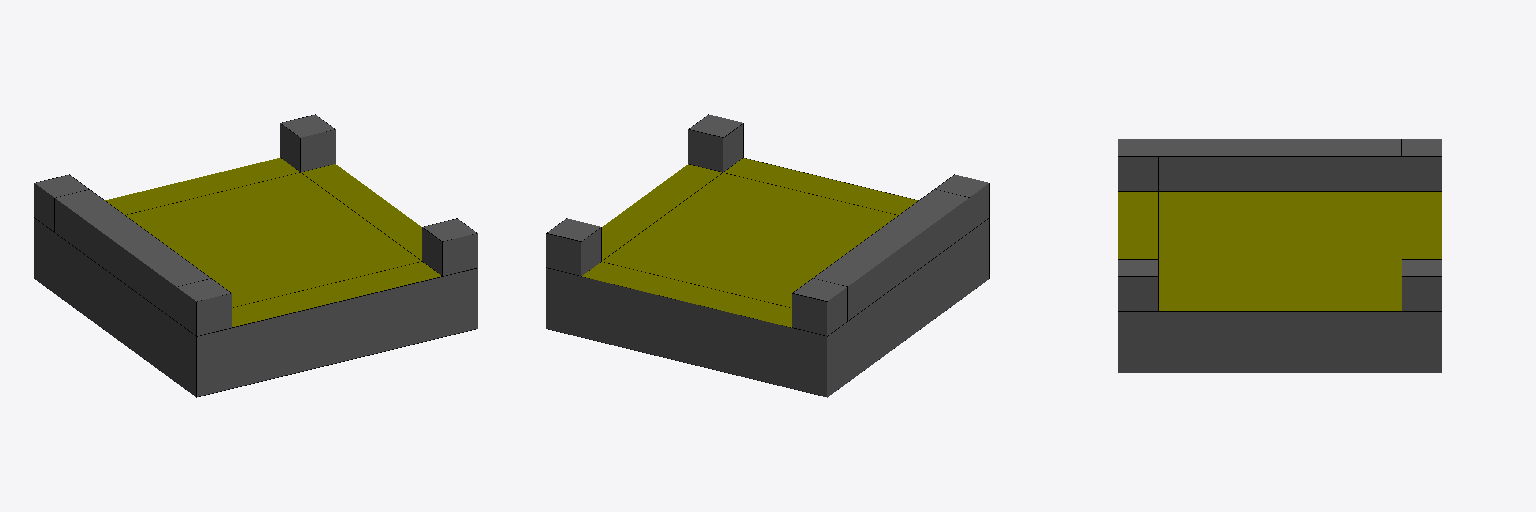
The picture shows the model from 3 angles: view 1: azimuth 30°, elevation 25°; view 2: azimuth 150°, elevation 25°; view 3: azimuth 270°, elevation 25°; orthographic projection.
Parts seen in each view (by area): view 1: intersection_3_belt_Cube.022; view 2: intersection_3_belt_Cube.022; view 3: intersection_3_belt_Cube.022.
Part boxes in pixels (x1,y1,x2,y2): intersection_3_belt_Cube.022: (34,114,477,397); intersection_3_belt_Cube.022: (546,114,989,397); intersection_3_belt_Cube.022: (1118,139,1441,372).
Bounding box in the file's own units: 2 × 0.6529 × 2.
1 materials, 1 textured.